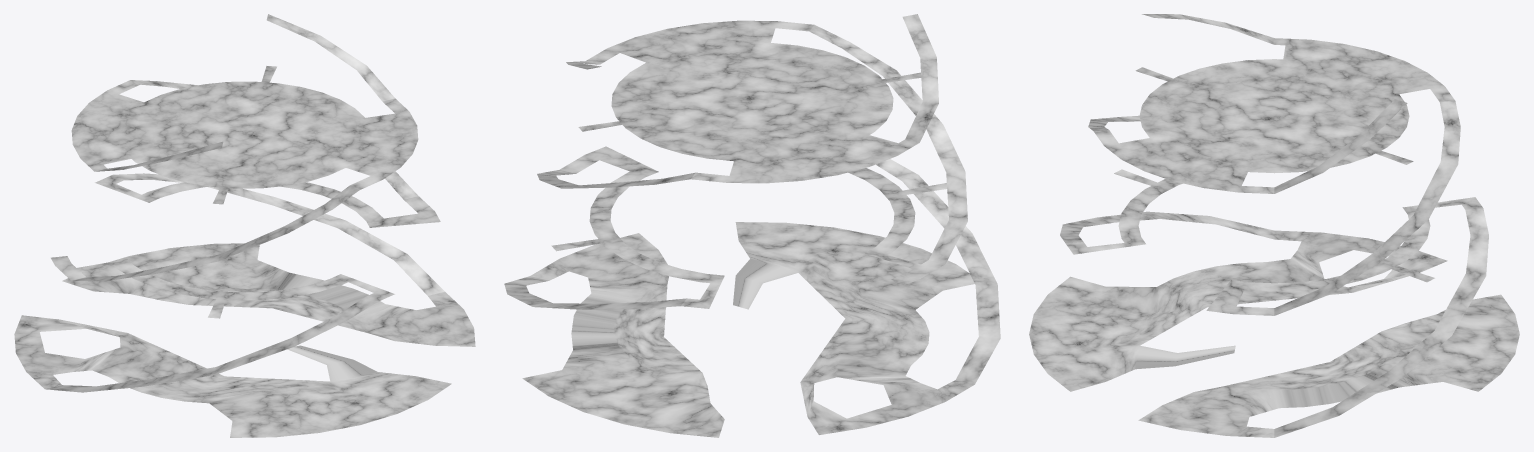
Rendered from NavMeshCitadelInner.dae.
3 views of the same model, side by side, from view 1: azimuth 30°, elevation 25°; view 2: azimuth 150°, elevation 25°; view 3: azimuth 270°, elevation 25° (orthographic). The views are drawn at different scales.
Parts seen in each view (by area): view 1: NavMeshCitadelInner; view 2: NavMeshCitadelInner; view 3: NavMeshCitadelInner.
Boxes of the visible parts, x1,y1,x2,y2 form: NavMeshCitadelInner: (14,14,475,437); NavMeshCitadelInner: (504,14,1000,437); NavMeshCitadelInner: (1029,14,1519,437).
Size of the model in its own units: 42.49 by 42.49 by 26.34.
Materials: 1 (1 with a texture image).
